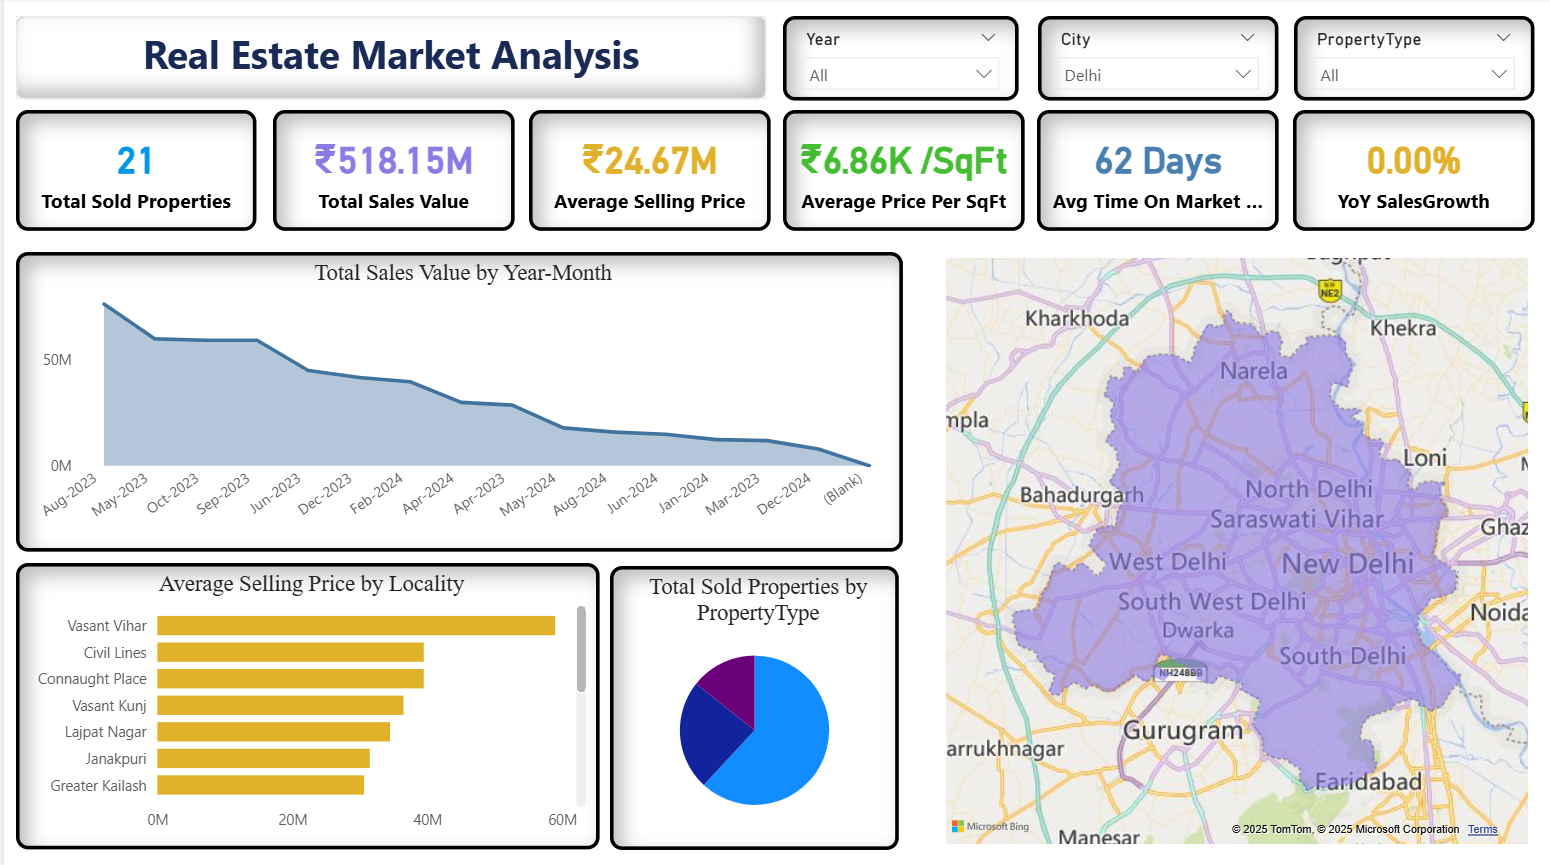

The dashboard page shown, as its layout file describes it:
{"tool":"powerbi","page":{"name":"Real Estate Market Analyasis","canvas":[1280,720],"ordinal":0},"visuals":[{"type":"textbox","box":[10,15,620.6,68.7],"z":0},{"type":"card","title":"Total Sold Properties","fields":{"Values":["RealEstateData.TotalSoldProperties"]},"box":[10,92.4,199,100],"z":1000},{"type":"card","title":"Total Sold Properties","fields":{"Values":["RealEstateData.TotalSalesValue"]},"box":[222.3,92.4,199.8,99.9],"z":2000},{"type":"card","title":"Total Sold Properties","fields":{"Values":["RealEstateData.AverageSellingPrice"]},"box":[434.6,92.4,199.8,99.9],"z":3000},{"type":"card","title":"Total Sold Properties","fields":{"Values":["RealEstateData.AveragePricePerSqFt"]},"box":[644.4,92.4,200,100],"z":4000},{"type":"card","title":"Total Sold Properties","fields":{"Values":["RealEstateData.AvgTimeOnMarketDays"]},"box":[855,92.4,200.4,100.2],"z":5000},{"type":"card","title":"Total Sold Properties","fields":{"Values":["RealEstateData.YoY_SalesGrowth%"]},"box":[1066.5,92.4,200,100],"z":6000},{"type":"slicer","fields":{"Values":["Date_Dim.Year"]},"box":[644.4,15,195,70],"z":7000},{"type":"slicer","fields":{"Values":["RealEstateData.City"]},"box":[855.4,15,198.6,69.9],"z":8000},{"type":"slicer","fields":{"Values":["RealEstateData.PropertyType"]},"box":[1067.7,15,198.6,69.9],"z":9000},{"type":"lineChart","title":"Total Sales Value by Year-Month","fields":{"Category":["Date_Dim.YearMonth"],"Y":["RealEstateData.Total Sales Value"]},"box":[9.8,209.9,734.1,248],"z":10000},{"type":"clusteredBarChart","fields":{"Category":["RealEstateData.Locality"],"Y":["RealEstateData.Average Selling Price"]},"box":[9.8,467.6,482.9,237.1],"z":11000},{"type":"filledMap","fields":{"Category":["RealEstateData.City"],"Y":["Avg(RealEstateData.Latitude)"],"X":["Avg(RealEstateData.Longitude)"]},"box":[774.3,209.9,491.6,494.8],"z":12000},{"type":"pieChart","fields":{"Category":["RealEstateData.PropertyType"],"Y":["RealEstateData.Total Sold Properties"]},"box":[501.3,469.8,239.3,234.9],"z":13000}]}

Visuals, with their boxes in screenshot pixels (x1, y1, x2, y2), scaled from the page's 1280x720 canvas onto the 1550x865 screenshot:
textbox: [x1=12, y1=18, x2=764, y2=101]
"Total Sold Properties" card: [x1=12, y1=111, x2=253, y2=231]
"Total Sold Properties" card: [x1=269, y1=111, x2=511, y2=231]
"Total Sold Properties" card: [x1=526, y1=111, x2=768, y2=231]
"Total Sold Properties" card: [x1=780, y1=111, x2=1023, y2=231]
"Total Sold Properties" card: [x1=1035, y1=111, x2=1278, y2=231]
"Total Sold Properties" card: [x1=1291, y1=111, x2=1534, y2=231]
slicer - Date_Dim.Year: [x1=780, y1=18, x2=1016, y2=102]
slicer - RealEstateData.City: [x1=1036, y1=18, x2=1276, y2=102]
slicer - RealEstateData.PropertyType: [x1=1293, y1=18, x2=1533, y2=102]
"Total Sales Value by Year-Month" lineChart: [x1=12, y1=252, x2=901, y2=550]
clusteredBarChart - RealEstateData.Locality x RealEstateData.Average Selling Price: [x1=12, y1=562, x2=597, y2=847]
filledMap - RealEstateData.City x Avg(RealEstateData.Latitude): [x1=938, y1=252, x2=1533, y2=847]
pieChart - RealEstateData.PropertyType x RealEstateData.Total Sold Properties: [x1=607, y1=564, x2=897, y2=847]
